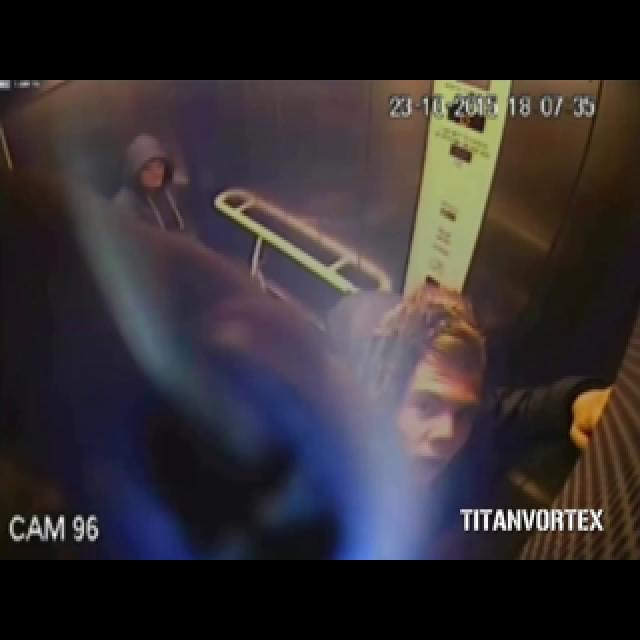arson: (135, 68, 500, 576)
